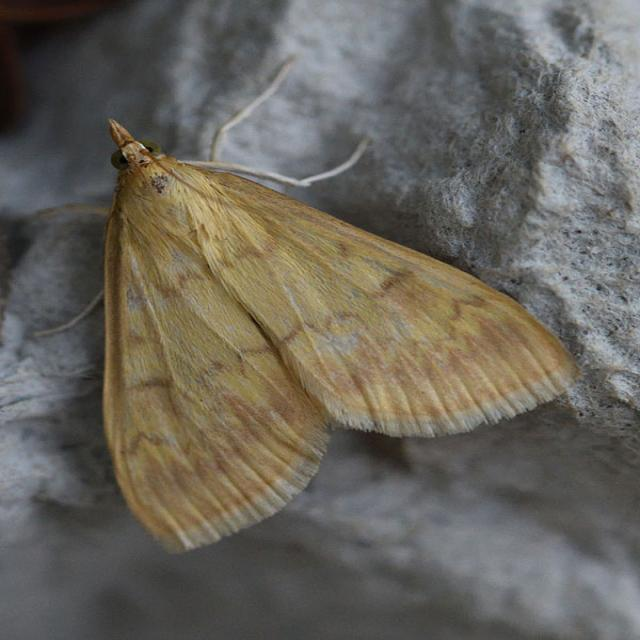cornborer-Adult-: (36, 75, 594, 558)
